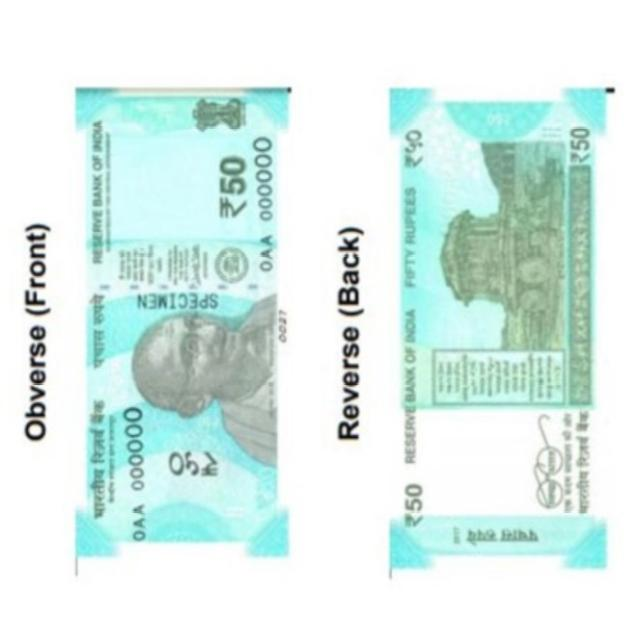50IndianRupees: (76, 85, 285, 578)
